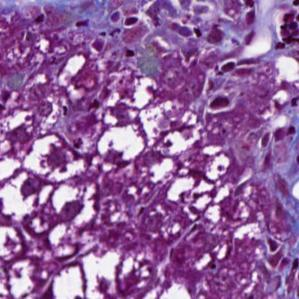inflammation: (27, 135, 88, 179), (202, 85, 236, 119)
